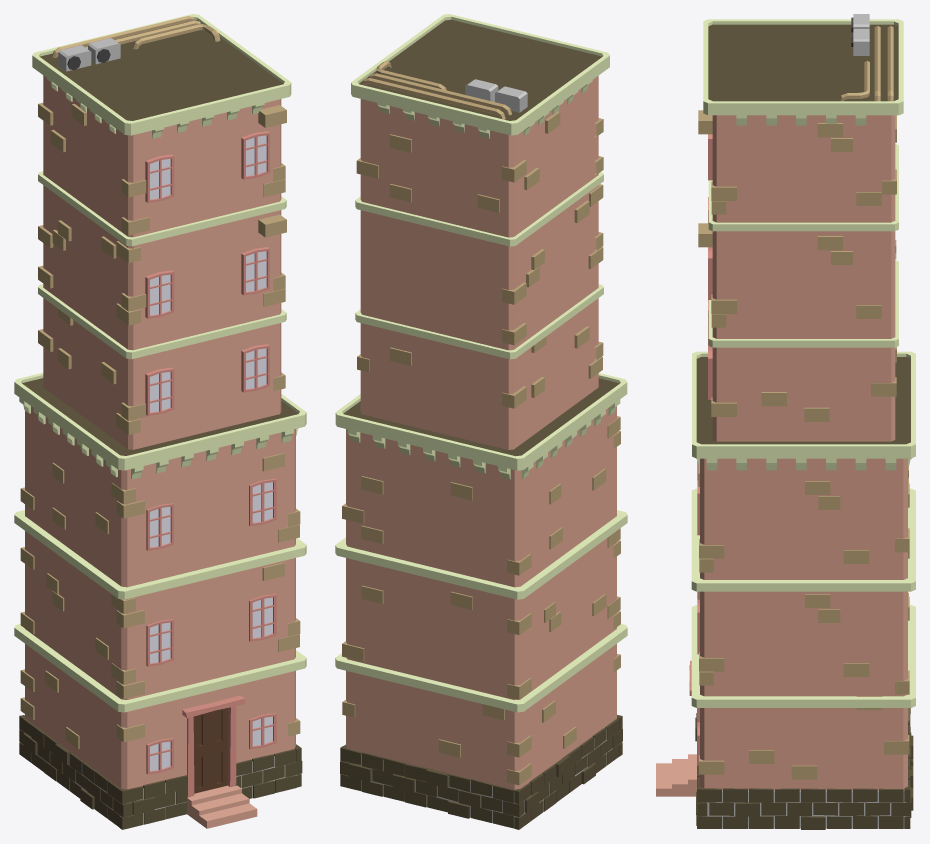
Rendered from 6Story_Stack_Mat.fbx.
The picture shows the model from 3 angles, left to right: view 1: azimuth 30°, elevation 25°; view 2: azimuth 150°, elevation 25°; view 3: azimuth 270°, elevation 25°; orthographic projection. The views are drawn at different scales.
Parts seen in each view (by area): view 1: 6Story_Stack_Mat; view 2: 6Story_Stack_Mat; view 3: 6Story_Stack_Mat.
Part boxes in pixels (x1=…): 6Story_Stack_Mat: x1=14, y1=14, x2=306, y2=829; 6Story_Stack_Mat: x1=335, y1=14, x2=627, y2=829; 6Story_Stack_Mat: x1=656, y1=14, x2=915, y2=829.
Size of the model in its own units: 216 by 780 by 250.
